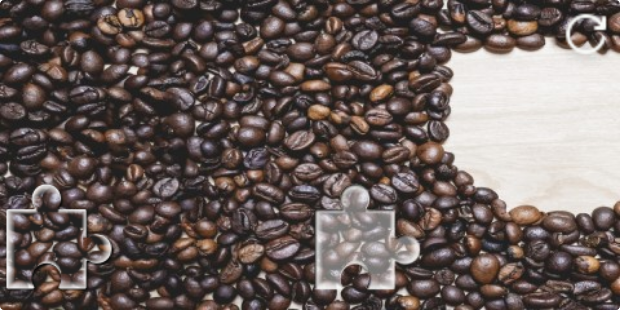target: (314, 185, 420, 289)
